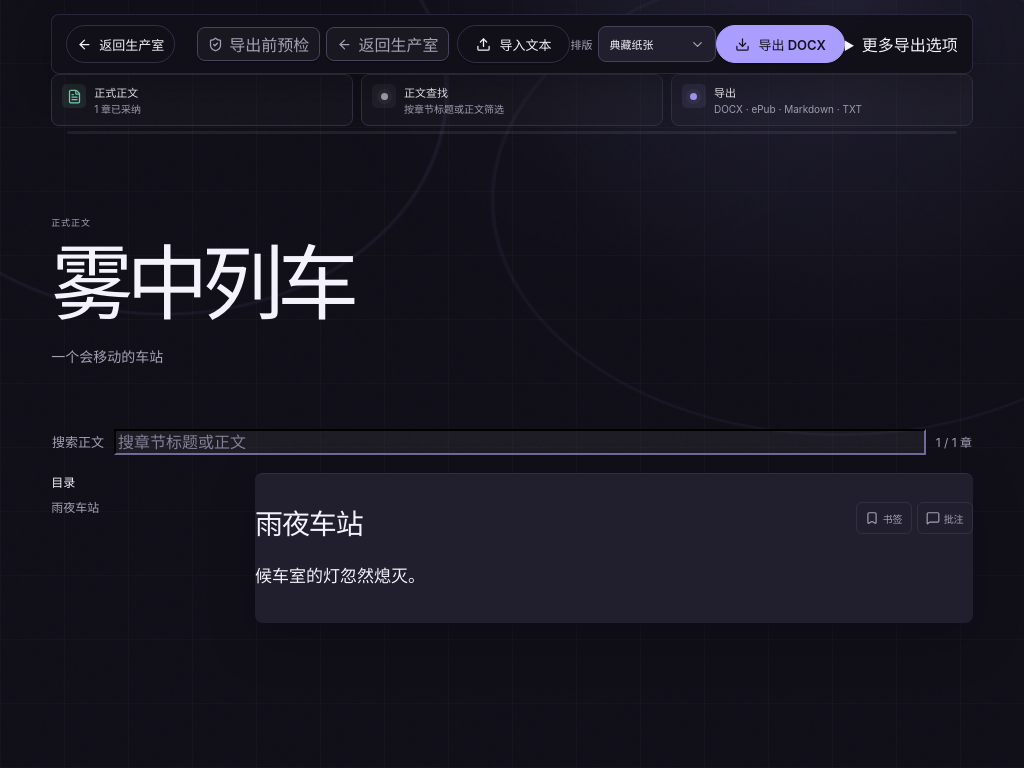
Test: ManuscriptView › groups less frequent export formats behind a toolbar disclosure
The image size is (1024, 768).
Check: the button "导出 DOCX" is shown, box [716, 25, 845, 63]
Click the heading "更多导出选项": (910,45) [862, 35, 958, 55]
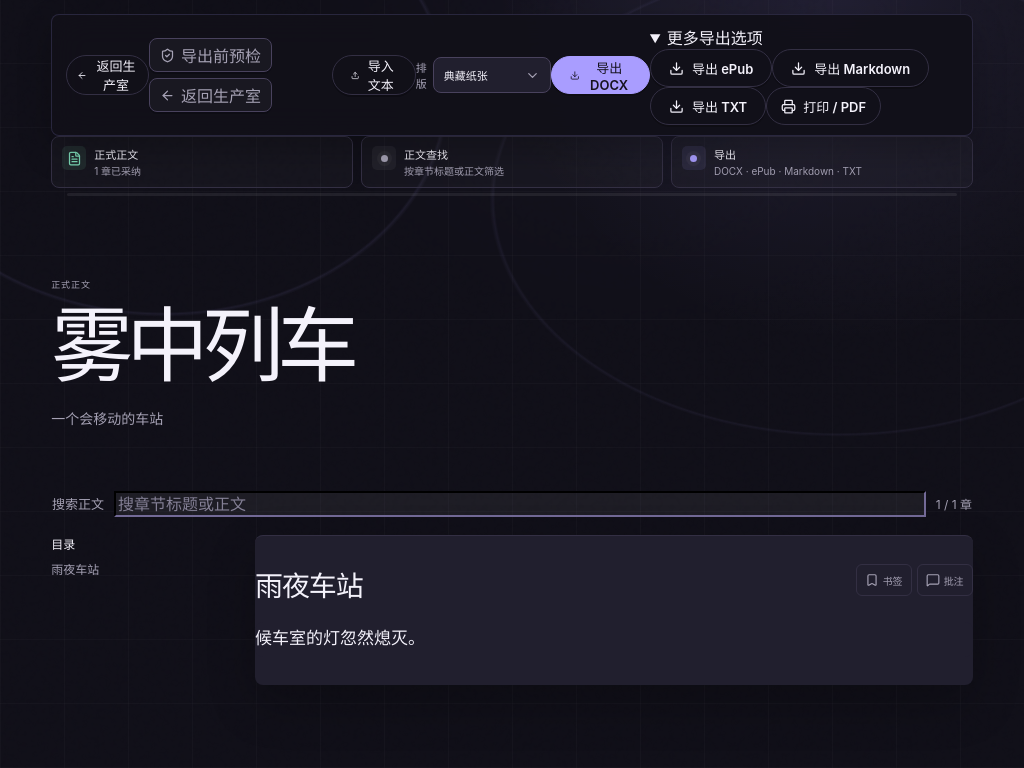
Check: the button "导出 TXT" is shown, box [650, 87, 766, 125]
Check: the button "导出 Markdown" is shown, box [772, 49, 929, 87]
